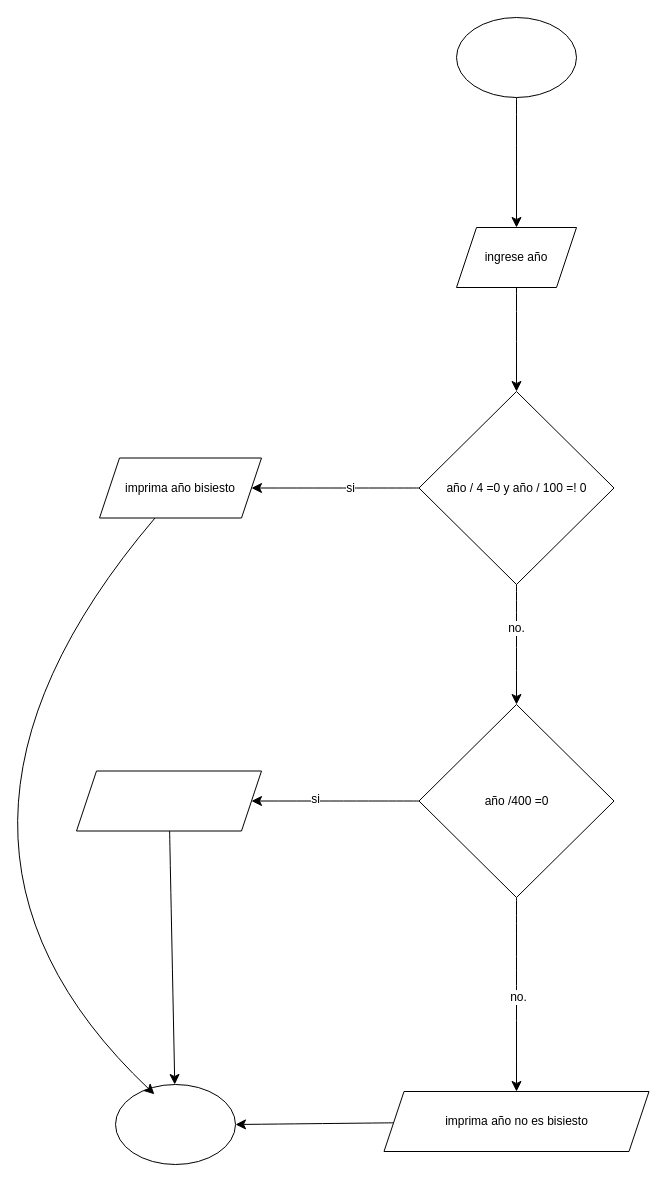
Some shapes in this 667 by 1182 pixel diagram are drawn without their labels. The centre of each missing label's shape, as x and y in pixels:
"fin" goes at point (175, 1124).
"imprima año es bisiesto" goes at point (169, 800).
"Inicio" goes at point (516, 57).
